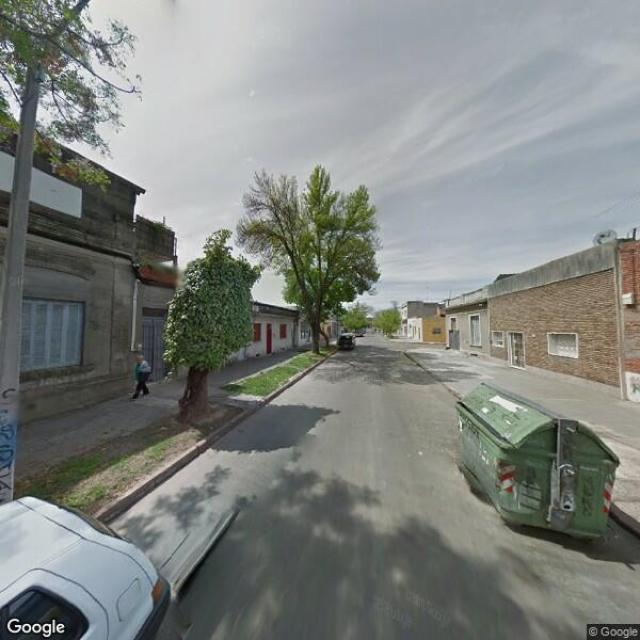garbage container: (447, 378, 631, 562)
